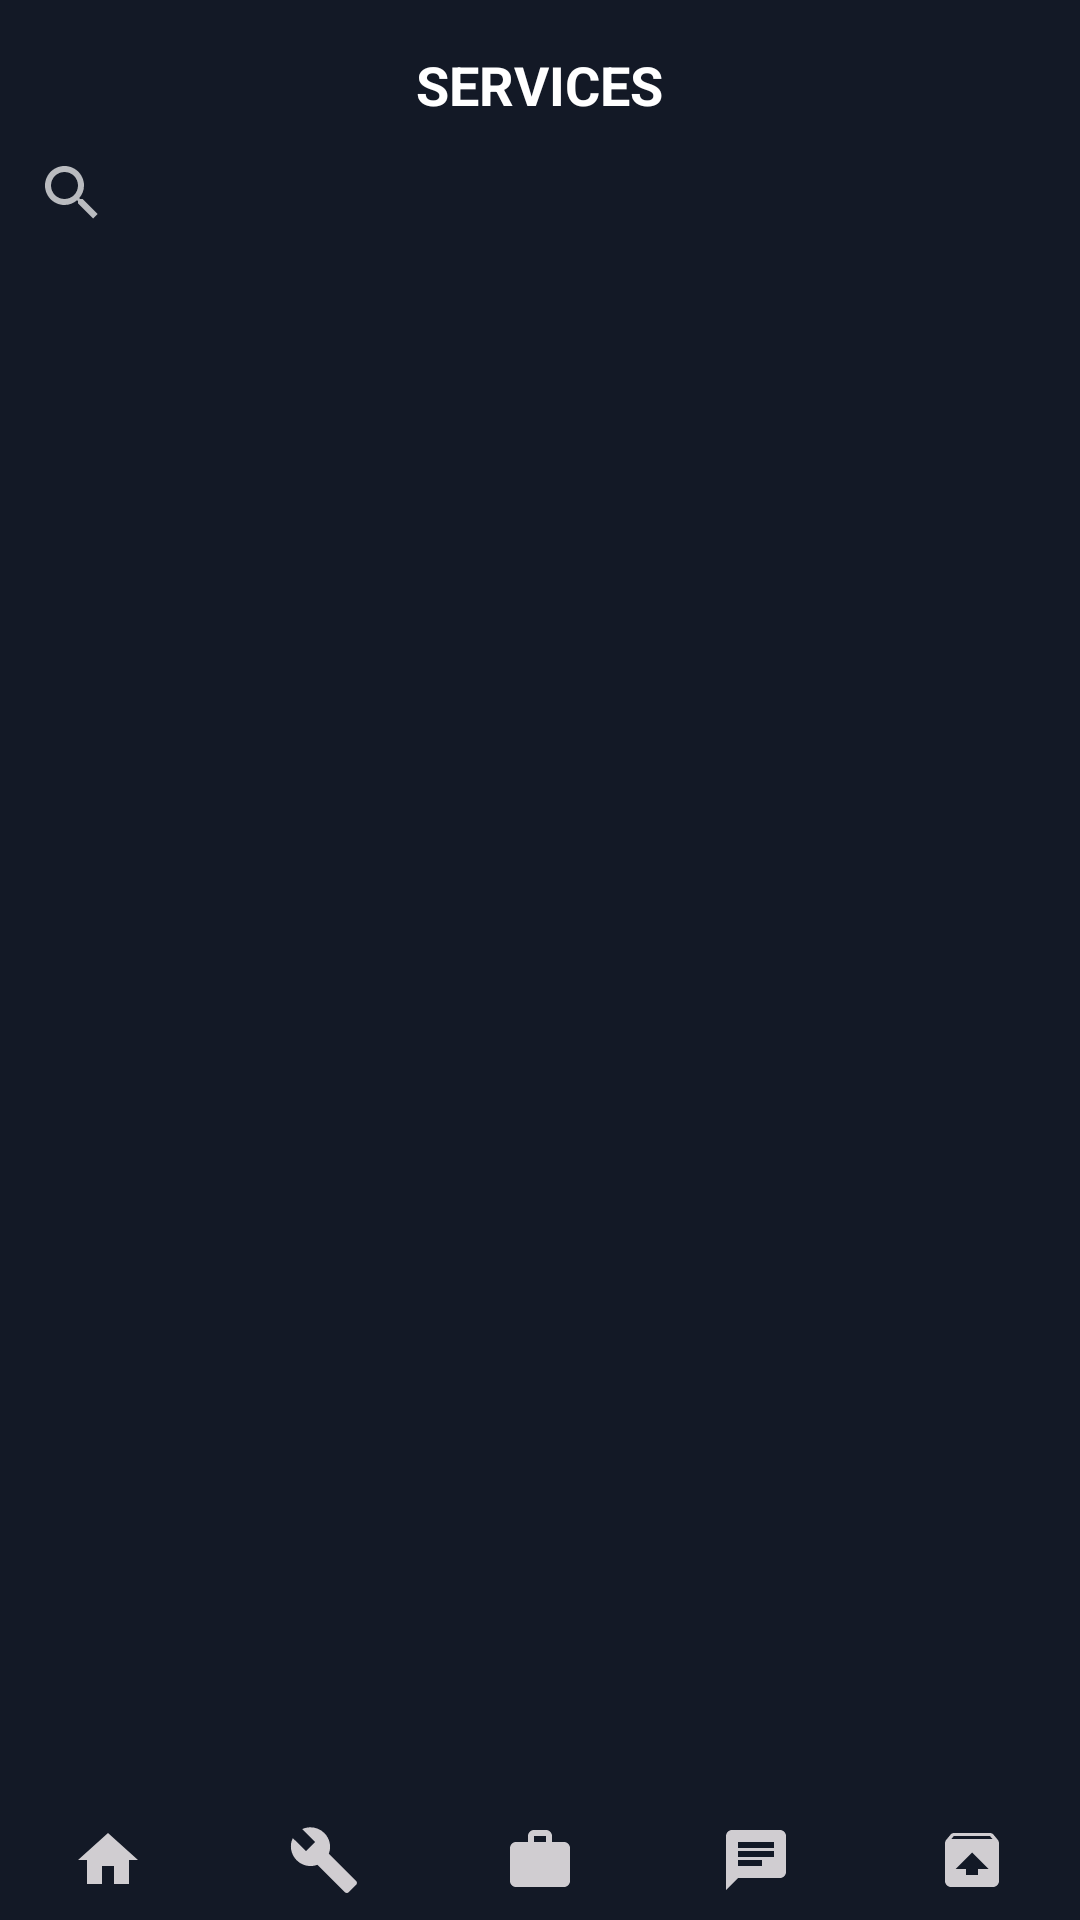

Screen size 1080w x 1920h. Icon name, then its box in pixels as (x1, y1, x2, y2):
build: (291, 1827, 357, 1893)
chat: (726, 1830, 786, 1890)
home: (78, 1833, 138, 1884)
unarchive: (945, 1833, 999, 1887)
work: (510, 1830, 570, 1887)
